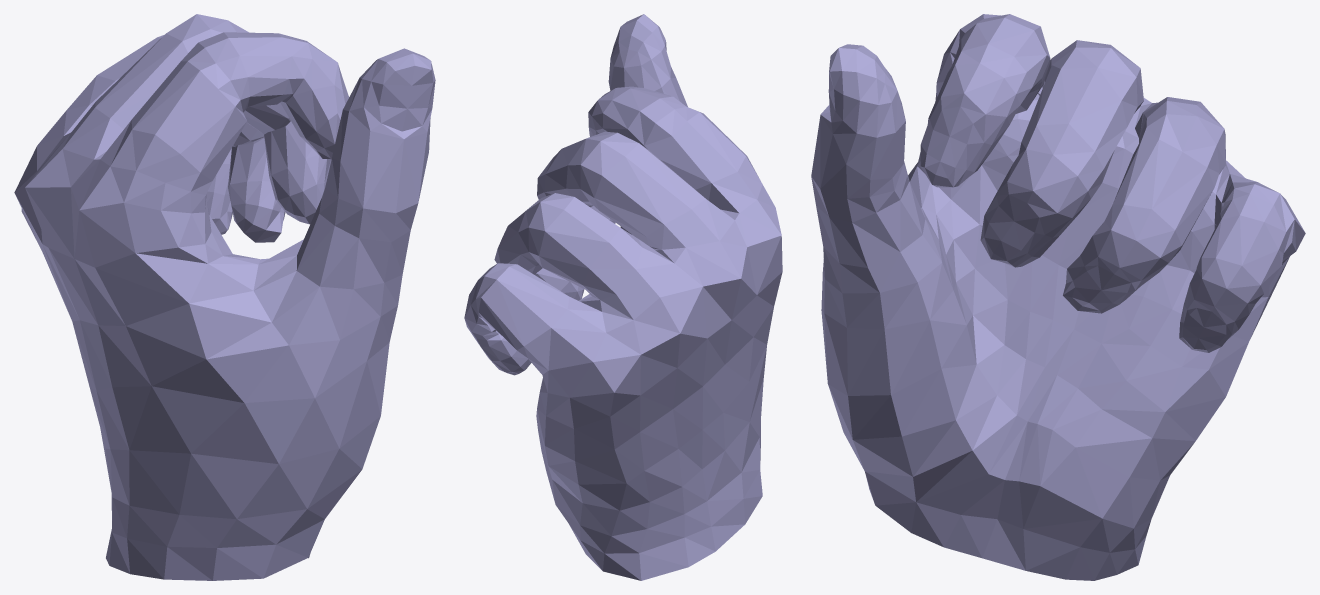
File: frame_0091_source_000091_hand.glb
3 renders of one model, left to right at view 1: azimuth 30°, elevation 25°; view 2: azimuth 150°, elevation 25°; view 3: azimuth 270°, elevation 25°, orthographic. The views are drawn at different scales.
Parts seen in each view (by area): view 1: world; view 2: world; view 3: world.
Part boxes in pixels (<box>): world: <box>14,14,435,580</box>; world: <box>464,14,782,580</box>; world: <box>811,14,1305,580</box>.
Size of the model in its own units: 0.0633 by 0.1201 by 0.095.
